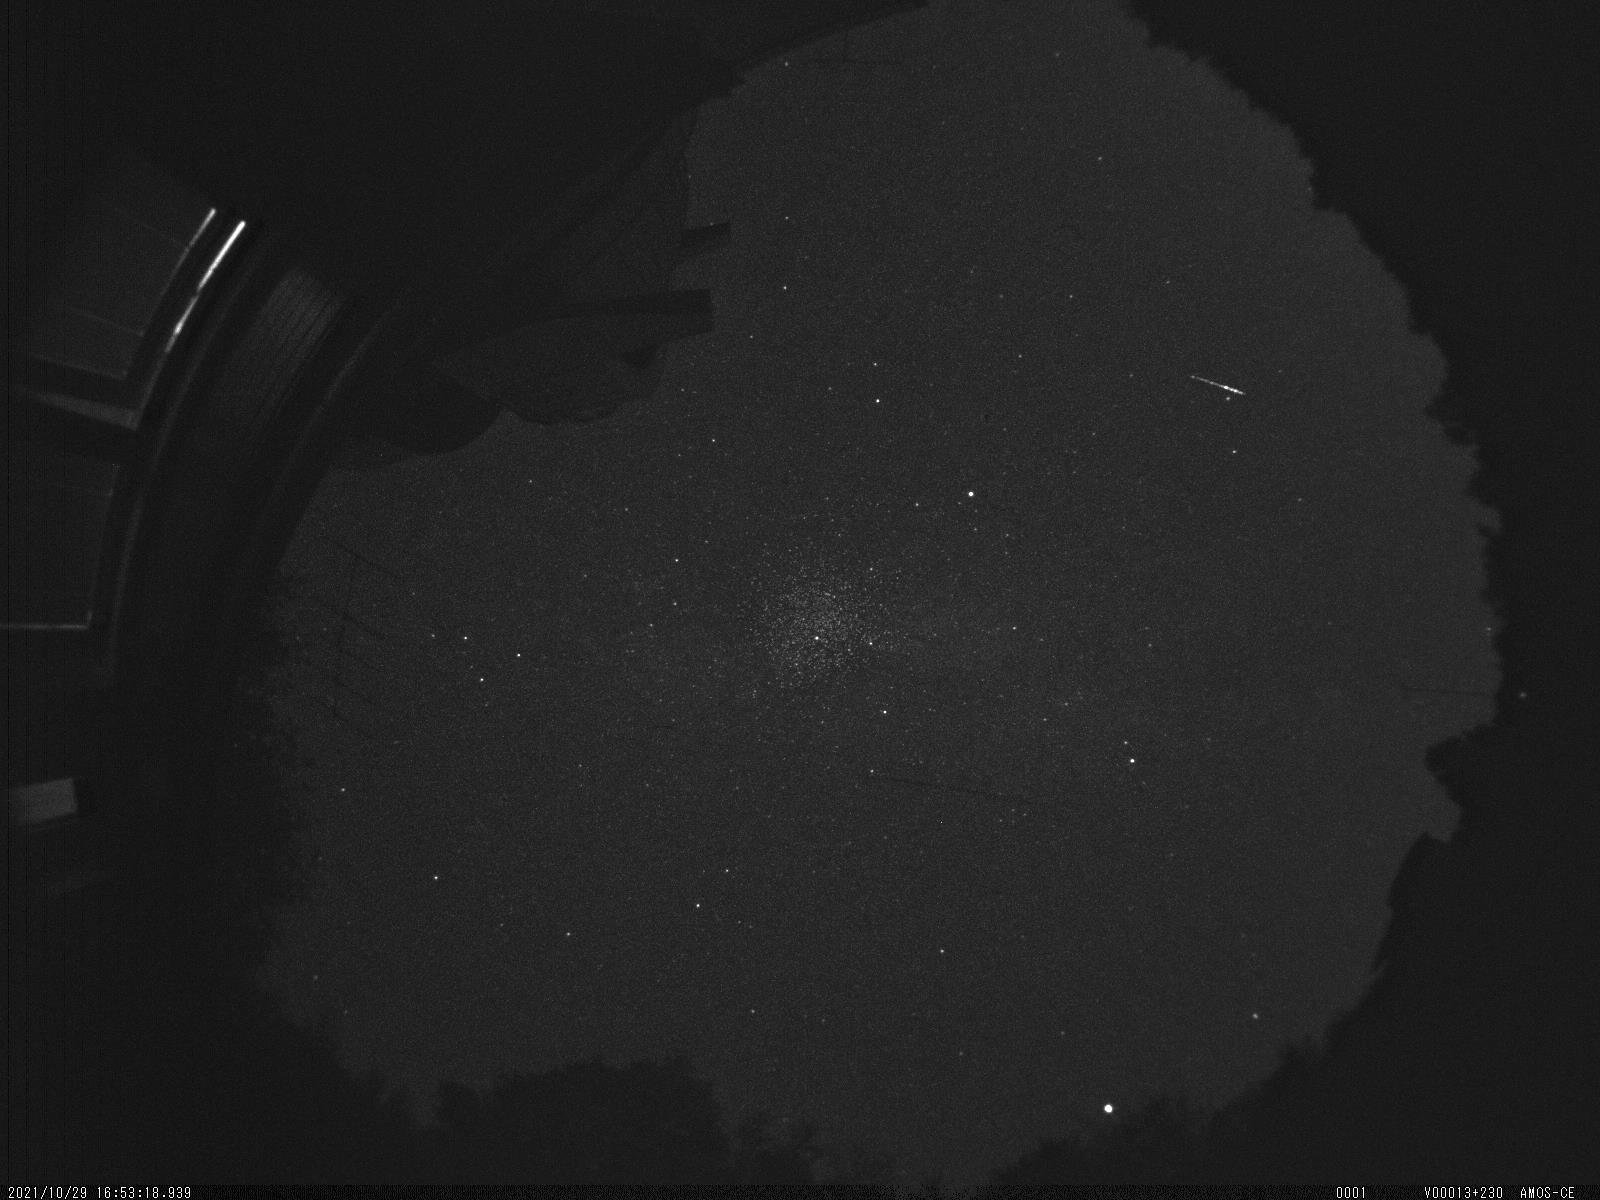Meteor: (1186, 367, 1257, 405)
